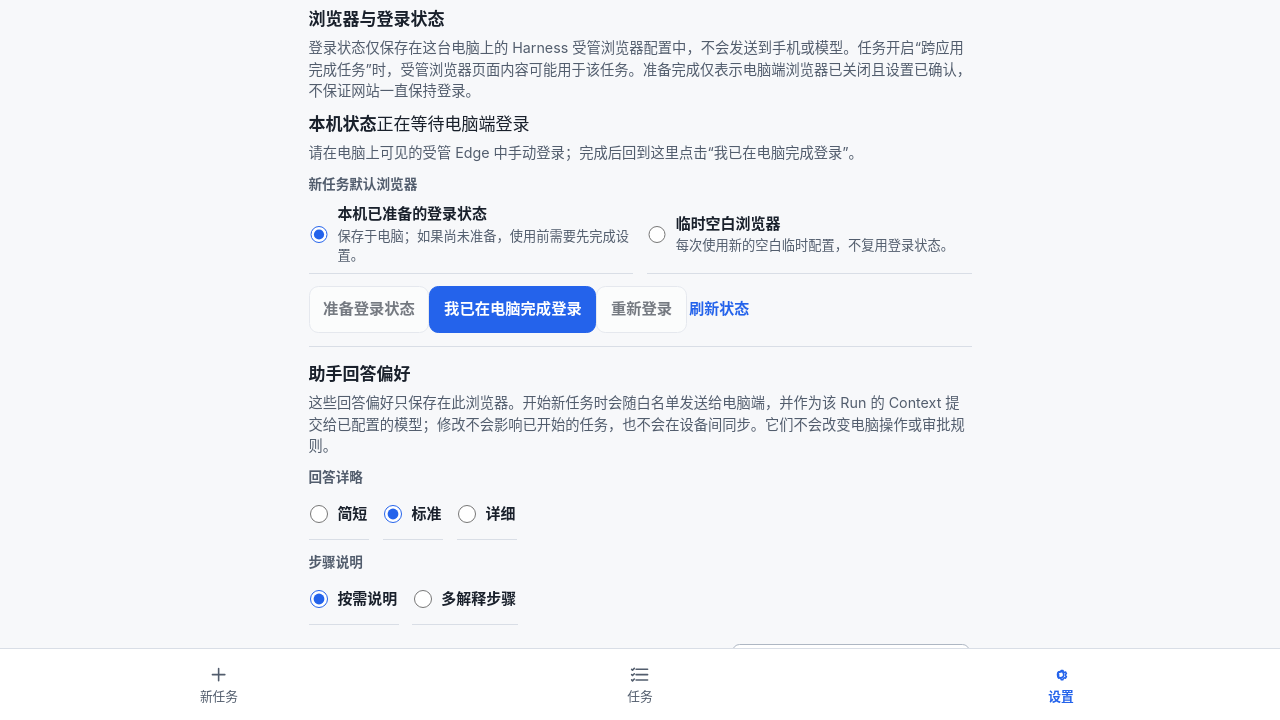
Test: personal preferences screen › reports a failed cleanup returned by completion without success copy
(page scrolled)
Click the button "我已在电脑完成登录" at (513, 309), box [430,286,596,333]
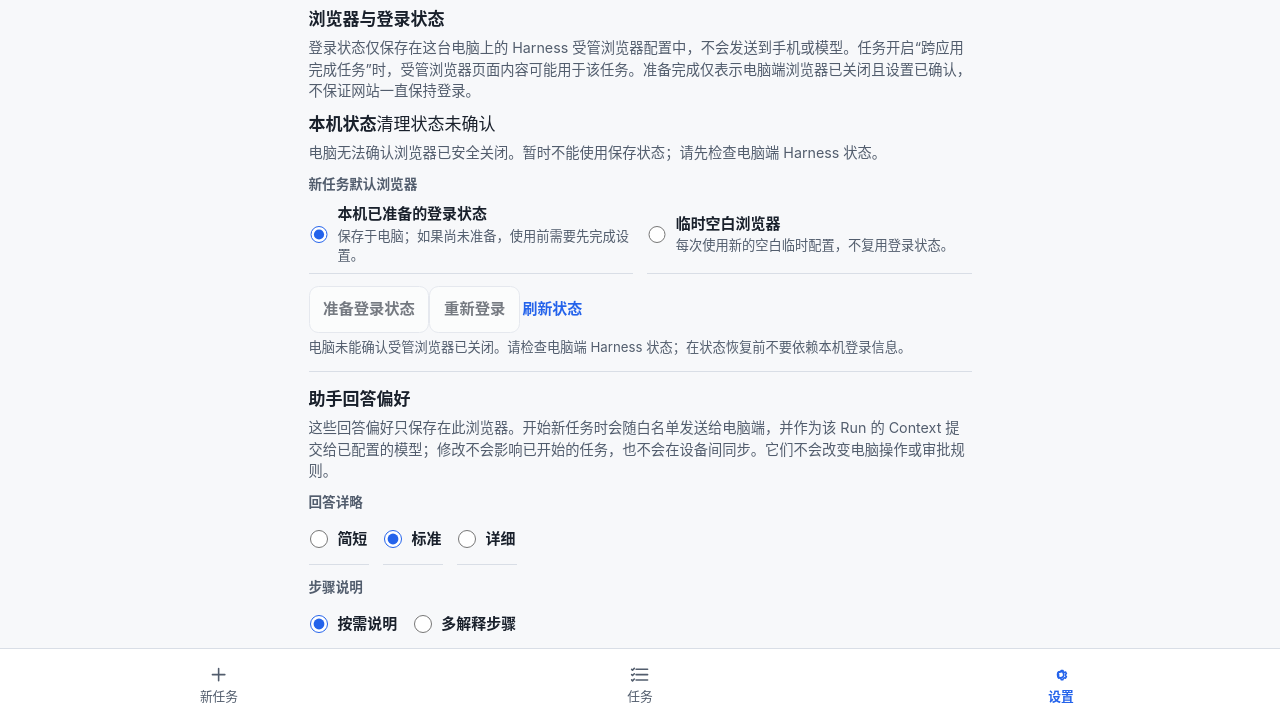
Expected: the text "电脑未能确认受管浏览器已关闭。请检查电脑端 Harness 状态；在状态恢复前不要依赖本机登录信息。" is shown, [308,338,972,358]
Expected: the text "清理状态未确认" is shown, [376,114,496,134]
